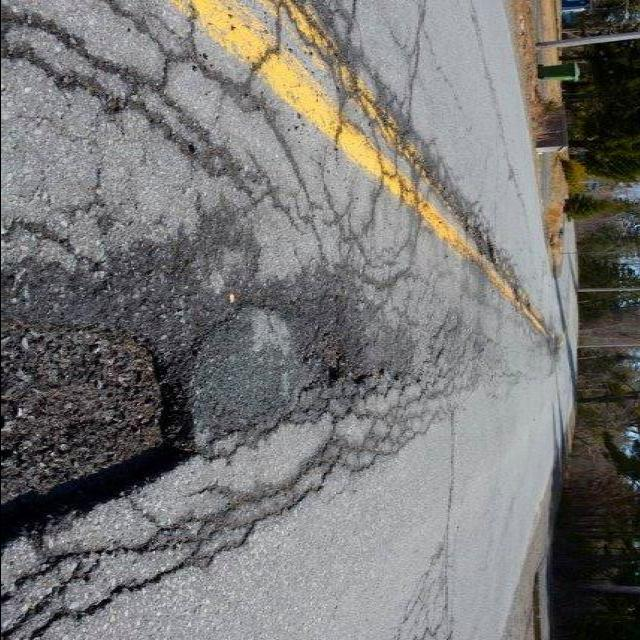jalan retak: (3, 3, 247, 160), (24, 506, 287, 634), (193, 89, 300, 238), (5, 186, 136, 290), (254, 430, 378, 522), (350, 263, 432, 401), (334, 180, 422, 303), (354, 372, 466, 460), (330, 60, 434, 154), (390, 535, 472, 640), (385, 106, 471, 206), (284, 0, 386, 79), (293, 378, 398, 444), (429, 302, 494, 406), (227, 274, 313, 332), (398, 4, 432, 130), (487, 233, 519, 301)
lubang: (2, 320, 214, 519), (296, 312, 360, 396), (458, 198, 505, 276), (538, 328, 568, 364), (512, 286, 540, 319)
